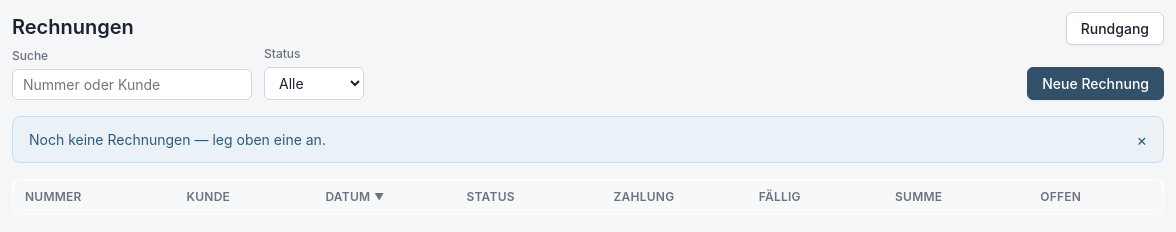
Test: Rechnungen › unterscheidet eine leere Liste von einem leeren Filterergebnis
The width and height of the screenshot is (1176, 232).
Expected: the text "Noch keine Rechnungen — leg oben eine an." is shown, [29,129,326,150]
Select "Storniert" in the dropdown labelled "Status". click: x=314, y=84
box: [264,67,364,100]
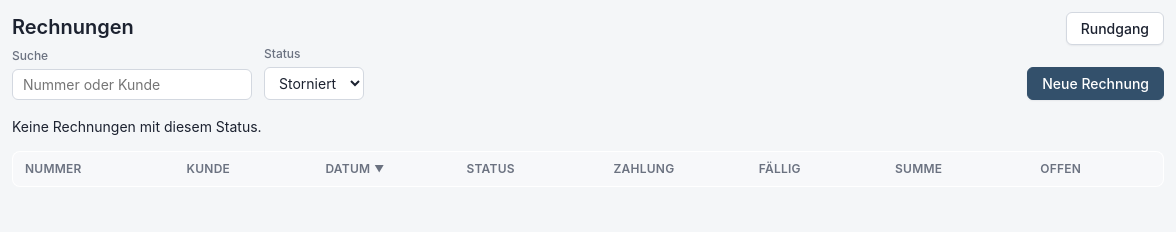
Result: the text "Keine Rechnungen mit diesem Status." is shown at [12,118,262,135]
